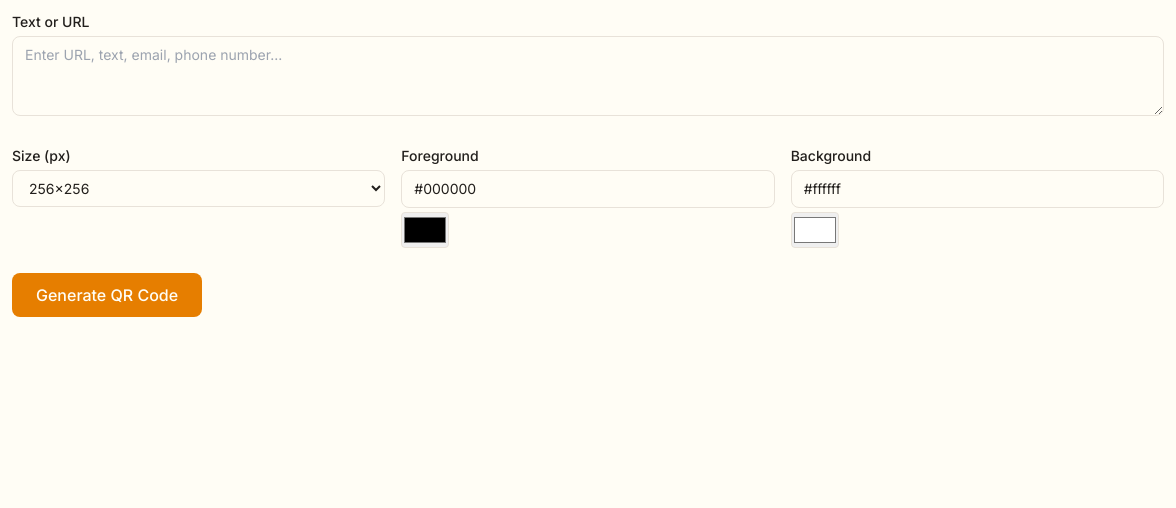
Scenario: QrCodeGenerator › shows Download PNG button after generation
Type "hello" into the text box with placeholder "Enter URL, text, email, phone number...". click: (588, 76)
box: [12,36,1164,116]
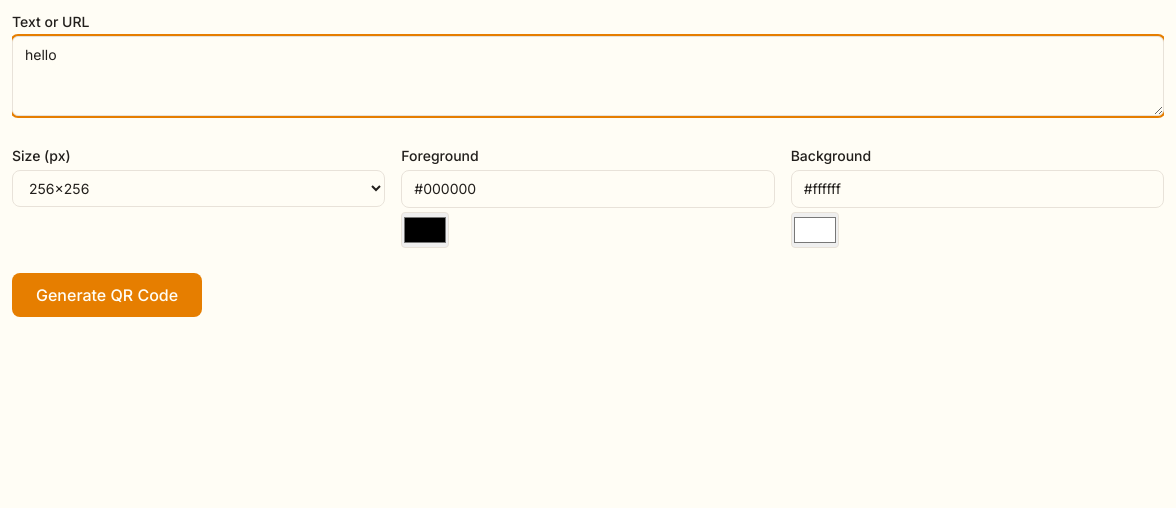
Click the button "Generate QR Code". click: (107, 295)
box: [12,273,202,317]
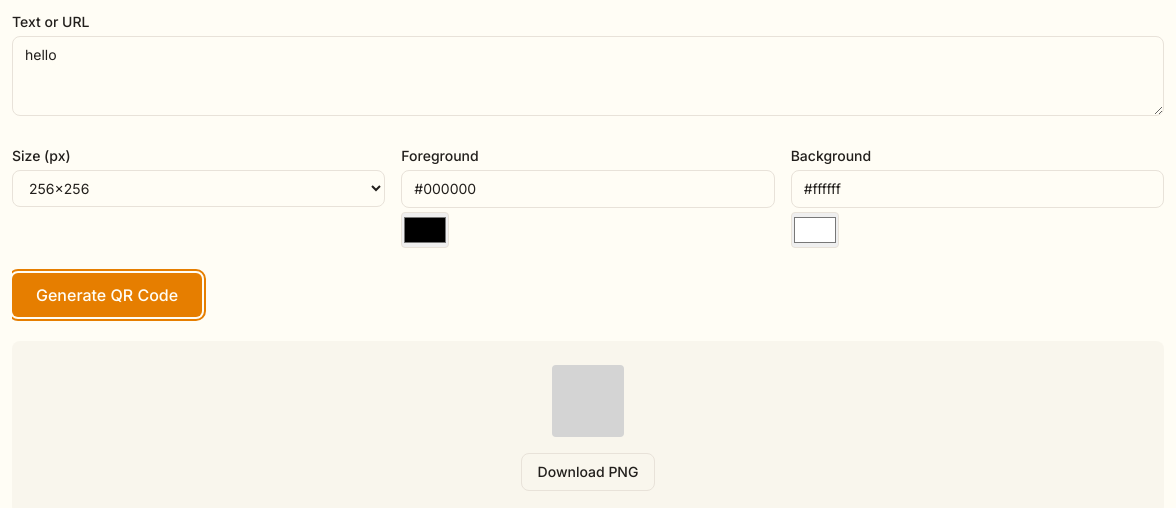
Check: the button "Download PNG" is shown, box [521,453,656,491]
